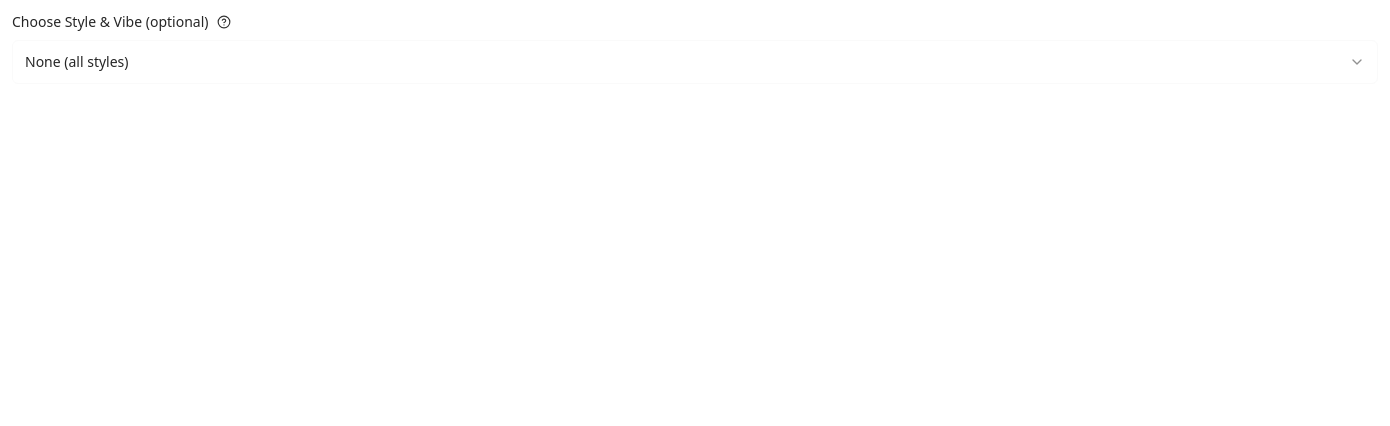
Test: VibeFilter › renders VibeFilter with select dropdown
expect the text "Choose Style & Vibe (optional)" is shown: met, box [12, 12, 208, 32]
Click the dropdown: click(77, 62) [12, 40, 1378, 84]
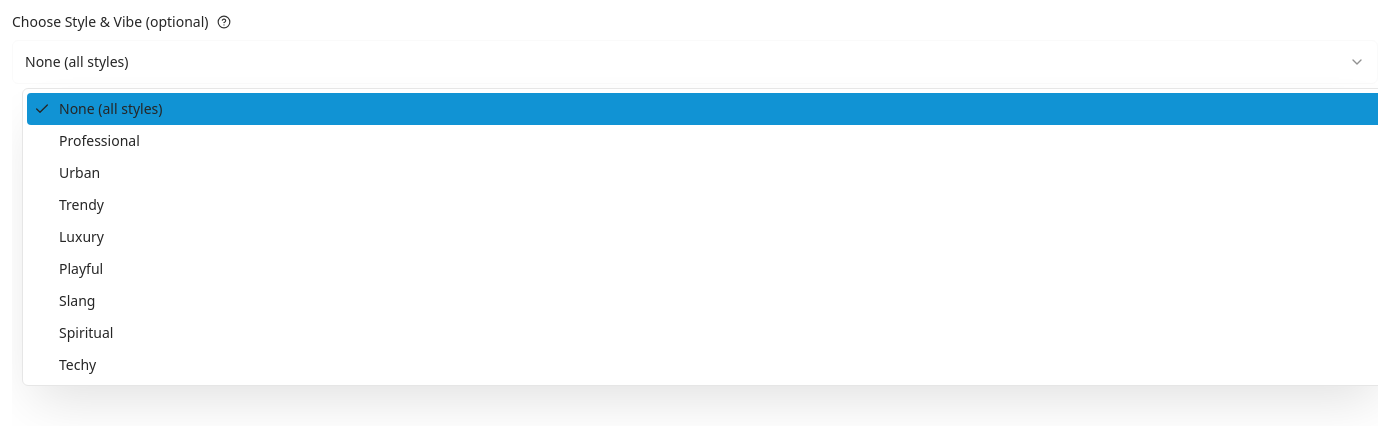
expect the text "Urban" is shown: met, box [59, 163, 100, 183]
